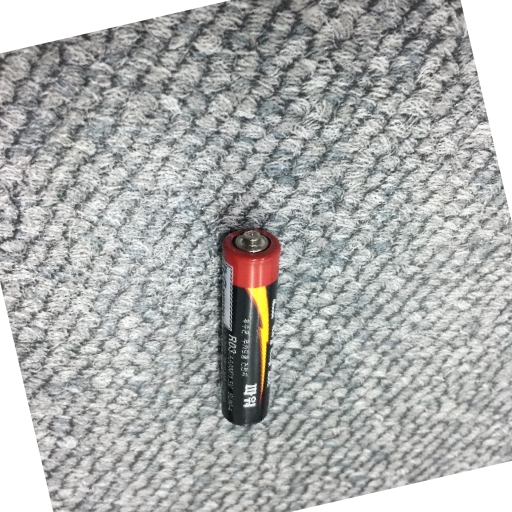Battery_0: (203, 221, 292, 431)
